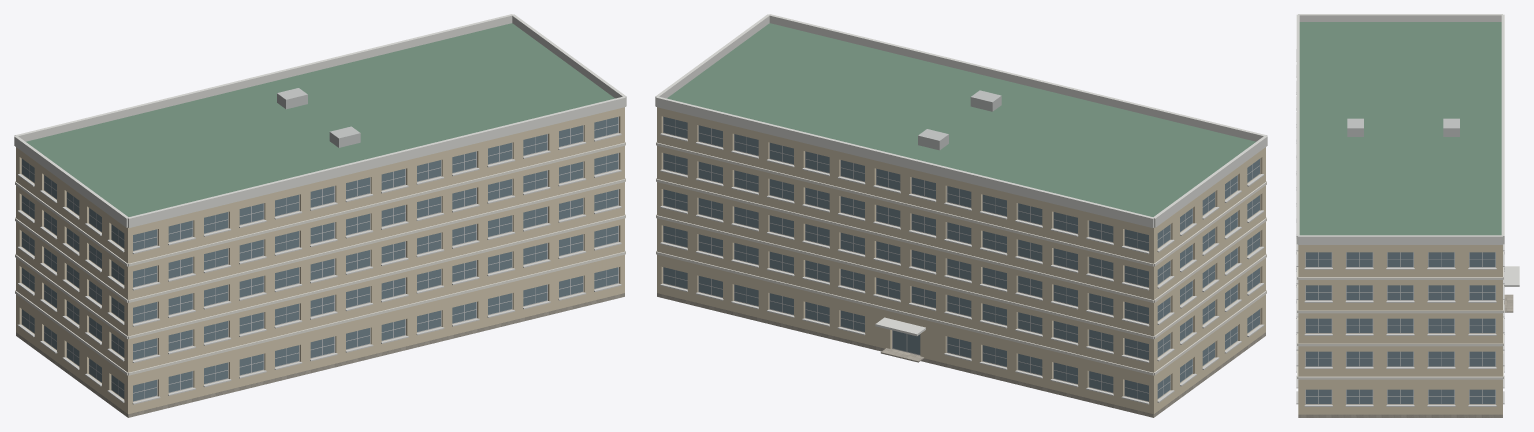
3 renders of one model, left to right at view 1: azimuth 30°, elevation 25°; view 2: azimuth 150°, elevation 25°; view 3: azimuth 270°, elevation 25°, orthographic. The views are drawn at different scales.
Visible parts, largest first — view 1: main-south__paint, main-south__roof, main-south__glass, main-south__cap, main-south__band, main-south__frame, main-south__sill, main-south__stone, main-south__plant; view 2: main-south__paint, main-south__roof, main-south__glass, main-south__cap, main-south__band, main-south__frame, main-south__sill, main-south__stone, main-south__plant; view 3: main-south__roof, main-south__paint, main-south__glass, main-south__cap, main-south__band, main-south__frame, main-south__sill, main-south__stone, main-south__plant.
Part boxes in pixels (x1,y1,x2,y2): main-south__paint: [16, 107, 624, 414]; main-south__roof: [26, 23, 614, 216]; main-south__glass: [22, 117, 618, 401]; main-south__cap: [14, 14, 626, 227]; main-south__band: [15, 142, 625, 375]; main-south__frame: [21, 116, 618, 401]; main-south__sill: [17, 133, 621, 404]; main-south__stone: [16, 293, 624, 417]; main-south__plant: [277, 88, 360, 147]; main-south__paint: [657, 107, 1265, 414]; main-south__roof: [667, 23, 1255, 216]; main-south__glass: [663, 117, 1259, 401]; main-south__cap: [655, 14, 1267, 336]; main-south__band: [656, 142, 1266, 375]; main-south__frame: [663, 116, 1260, 401]; main-south__sill: [660, 133, 1264, 404]; main-south__stone: [657, 293, 1265, 417]; main-south__plant: [918, 90, 1001, 150]; main-south__roof: [1299, 22, 1501, 235]; main-south__paint: [1298, 245, 1502, 414]; main-south__glass: [1306, 252, 1495, 403]; main-south__cap: [1296, 14, 1519, 286]; main-south__band: [1297, 251, 1503, 379]; main-south__frame: [1305, 252, 1495, 404]; main-south__sill: [1296, 49, 1504, 406]; main-south__stone: [1298, 414, 1502, 417]; main-south__plant: [1347, 118, 1459, 136].
Bounding box in the file's own units: 50.46 × 19.46 × 21.38.
Materials: 10 (1 with a texture image).
